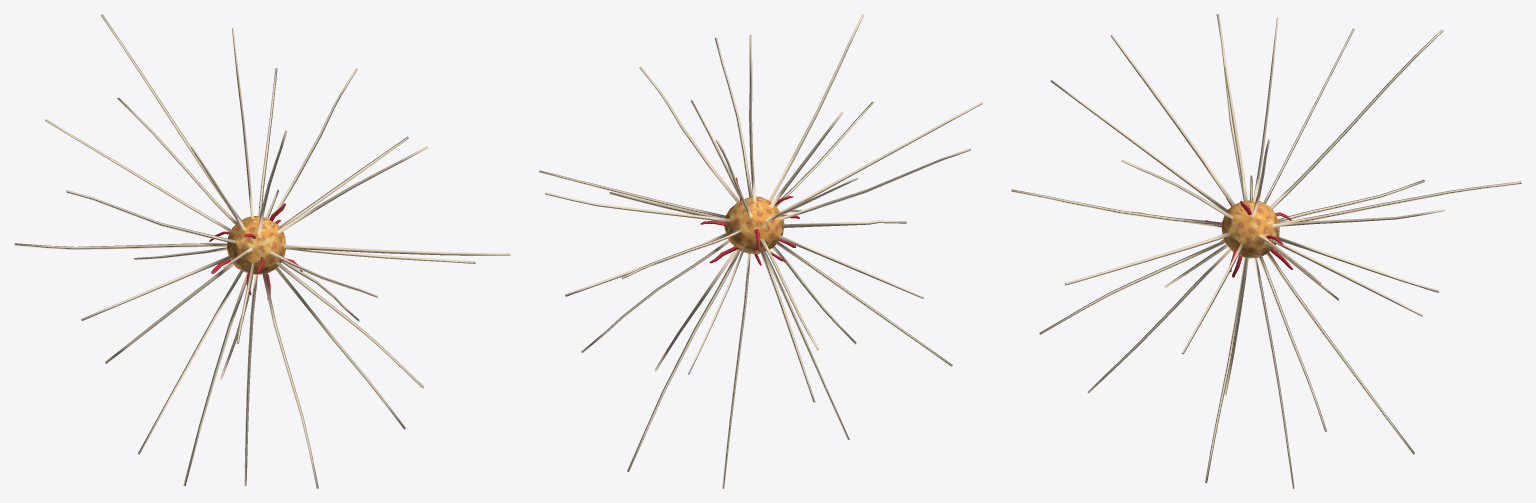
The model's file is dandelionSiph00.fbx.
3 renders of one model, left to right at view 1: azimuth 30°, elevation 25°; view 2: azimuth 150°, elevation 25°; view 3: azimuth 270°, elevation 25°, orthographic. The views are drawn at different scales.
Parts seen in each view (by area): view 1: dandelionSiph_final; view 2: dandelionSiph_final; view 3: dandelionSiph_final.
Part boxes in pixels (x1,y1,x2,y2): dandelionSiph_final: (14,14,510,488); dandelionSiph_final: (539,14,982,488); dandelionSiph_final: (1011,14,1521,488).
Size of the model in its own units: 1.87 by 2.12 by 2.13.
